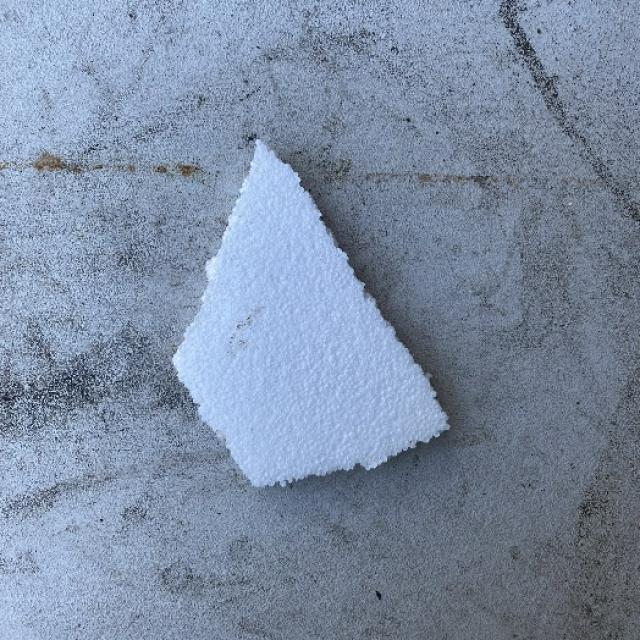styrofoam: (170, 136, 450, 488)
